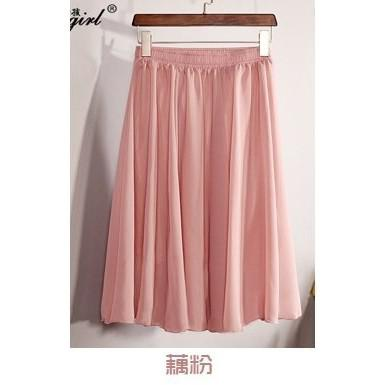Skirts: (101, 38, 302, 328)
